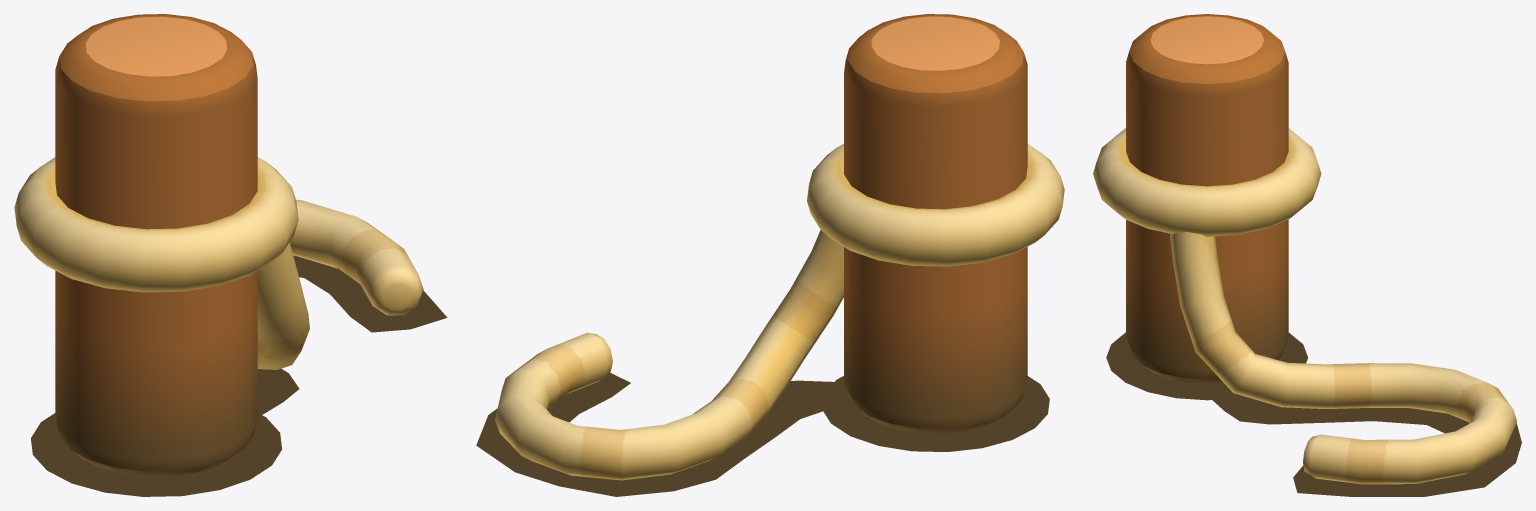
Rendered from E_Fence.fbx.
3 views of the same model, side by side, from view 1: azimuth 30°, elevation 25°; view 2: azimuth 150°, elevation 25°; view 3: azimuth 270°, elevation 25° (orthographic). The views are drawn at different scales.
Visible parts, largest first — view 1: E_fence_pCylinder54, pCylinder55; view 2: E_fence_pCylinder54, pCylinder55; view 3: E_fence_pCylinder54, pCylinder55.
Boxes of the visible parts, x1=… form: E_fence_pCylinder54: x1=14, y1=14, x2=423, y2=476; pCylinder55: x1=31, y1=255, x2=447, y2=496; E_fence_pCylinder54: x1=495, y1=14, x2=1064, y2=480; pCylinder55: x1=476, y1=372, x2=1049, y2=496; E_fence_pCylinder54: x1=1093, y1=14, x2=1517, y2=484; pCylinder55: x1=1106, y1=332, x2=1521, y2=496.
Size of the model in its own units: 91.84 by 72.43 by 88.72.
